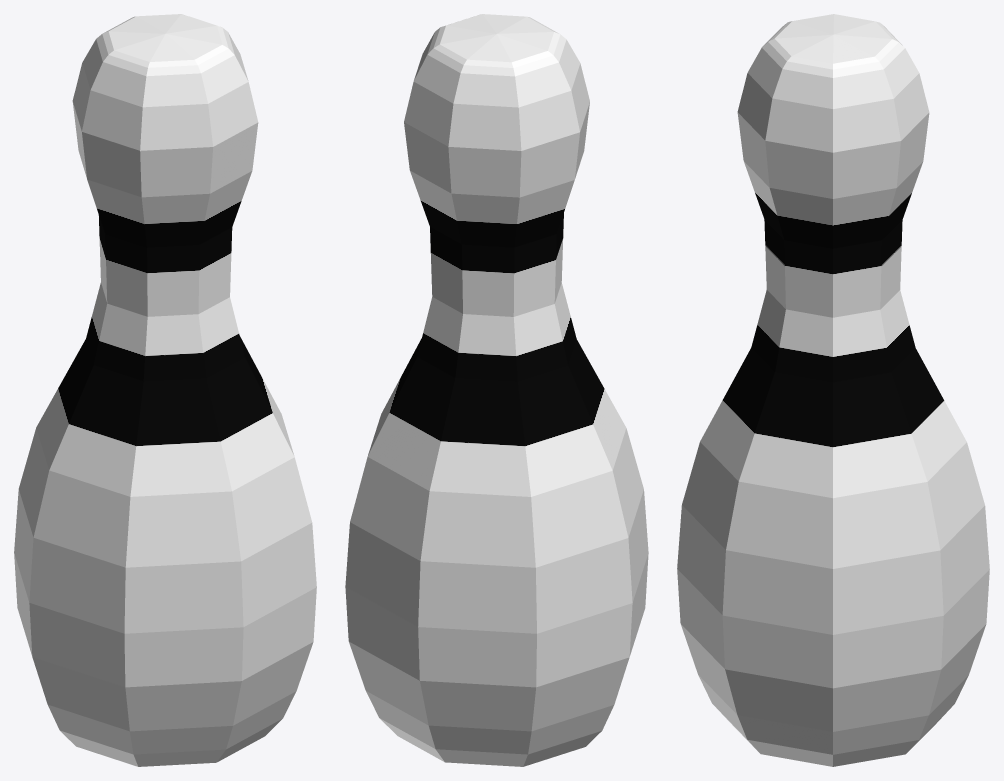
The model's file is bowling-pin.obj.
3 renders of one model, left to right at view 1: azimuth 30°, elevation 25°; view 2: azimuth 150°, elevation 25°; view 3: azimuth 270°, elevation 25°, orthographic.
Parts seen in each view (by area): view 1: Cylinder; view 2: Cylinder; view 3: Cylinder.
Boxes of the visible parts, <box> form: Cylinder: <box>14,14,316,766</box>; Cylinder: <box>345,14,648,766</box>; Cylinder: <box>677,14,989,766</box>.
Bounding box in the file's own units: 2.33 × 5.67 × 2.33.
